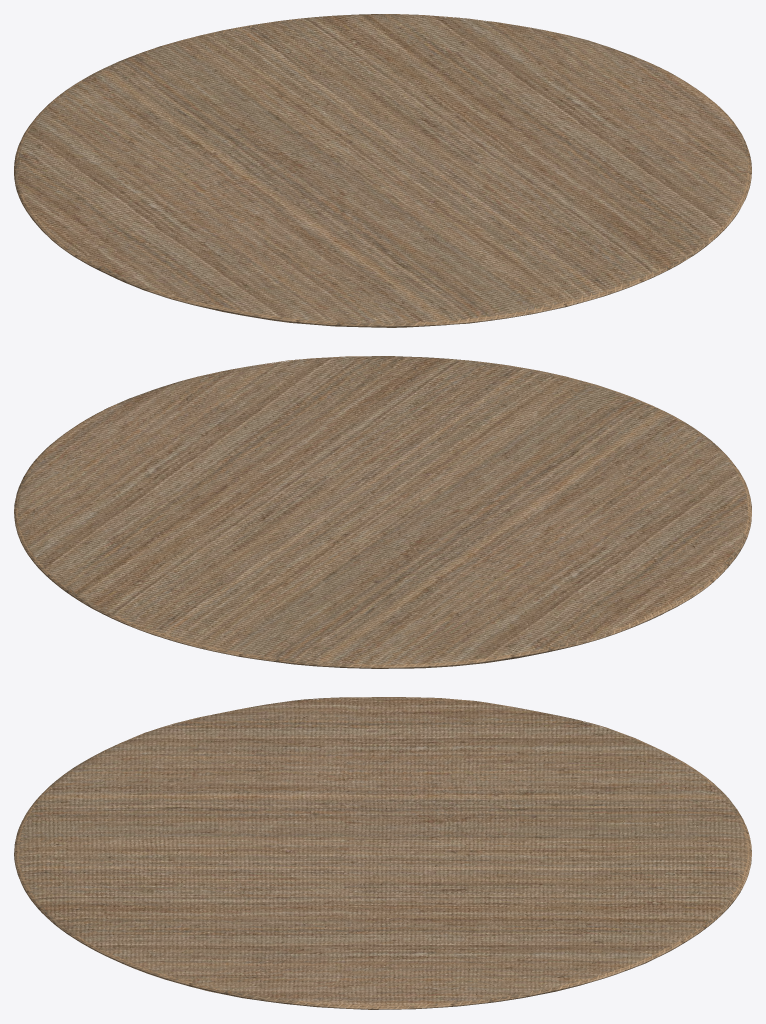
The model's file is lohals_dywan_tkany_na_pasko_80515104.glb.
3 views of the same model, one above another, from view 1: azimuth 30°, elevation 25°; view 2: azimuth 150°, elevation 25°; view 3: azimuth 270°, elevation 25° (orthographic).
Parts seen in each view (by area): view 1: lohals_dywan_tkany_na_pasko_80515104; view 2: lohals_dywan_tkany_na_pasko_80515104; view 3: lohals_dywan_tkany_na_pasko_80515104.
Part boxes in pixels (box(x1,y1,x2,y2)): lohals_dywan_tkany_na_pasko_80515104: box(14, 14, 751, 327); lohals_dywan_tkany_na_pasko_80515104: box(14, 356, 751, 668); lohals_dywan_tkany_na_pasko_80515104: box(14, 697, 751, 1009).
Size of the model in its own units: 1.3 by 0.0164 by 1.3.
2 materials, 2 textured.
